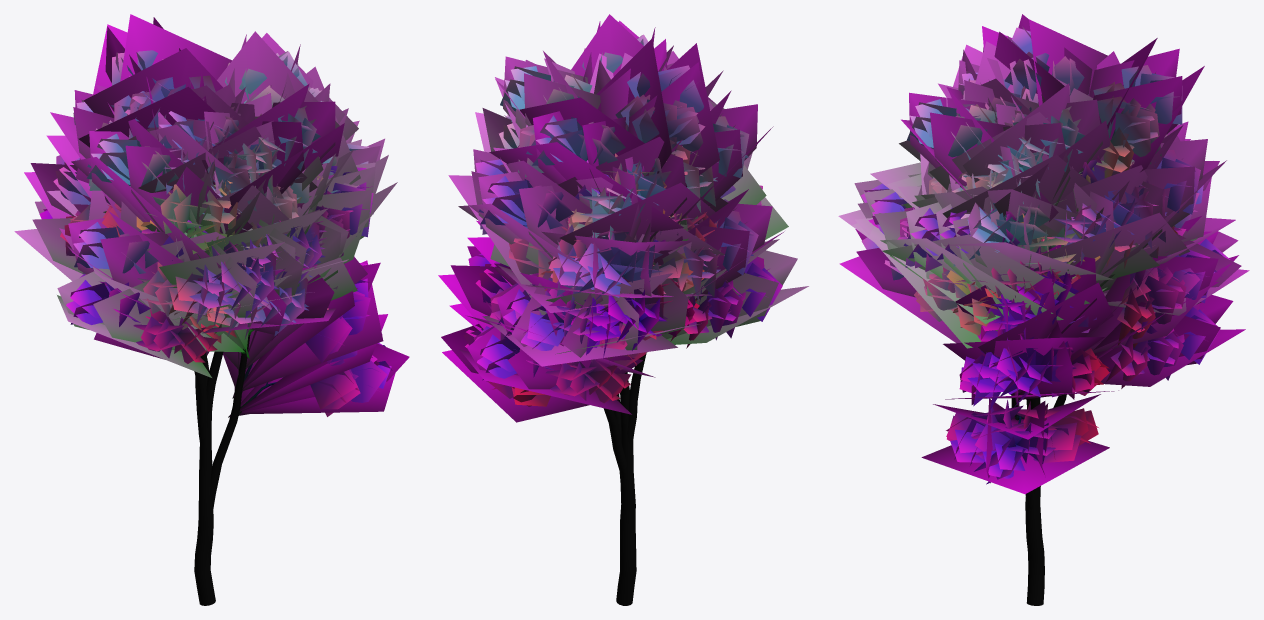
The model's file is oregonash_mature.fbx.
The picture shows the model from 3 angles, left to right: view 1: azimuth 30°, elevation 25°; view 2: azimuth 150°, elevation 25°; view 3: azimuth 270°, elevation 25°; orthographic projection.
Visible parts, largest first — view 1: tree_shadow, tree_branches_lod0, tree_trunk_lod0; view 2: tree_shadow, tree_branches_lod0, tree_trunk_lod0; view 3: tree_shadow, tree_branches_lod0, tree_trunk_lod0.
Boxes of the visible parts, box(x1,y1,x2,y2) form: tree_shadow: box(14, 14, 409, 417); tree_branches_lod0: box(39, 50, 392, 416); tree_trunk_lod0: box(194, 331, 276, 605); tree_shadow: box(438, 14, 808, 422); tree_branches_lod0: box(463, 34, 782, 406); tree_trunk_lod0: box(603, 352, 646, 605); tree_shadow: box(838, 14, 1249, 494); tree_branches_lod0: box(861, 26, 1230, 484); tree_trunk_lod0: box(1011, 393, 1066, 605).
Size of what is drawn, in the model's own units: 19.33 by 29.91 by 19.47.
